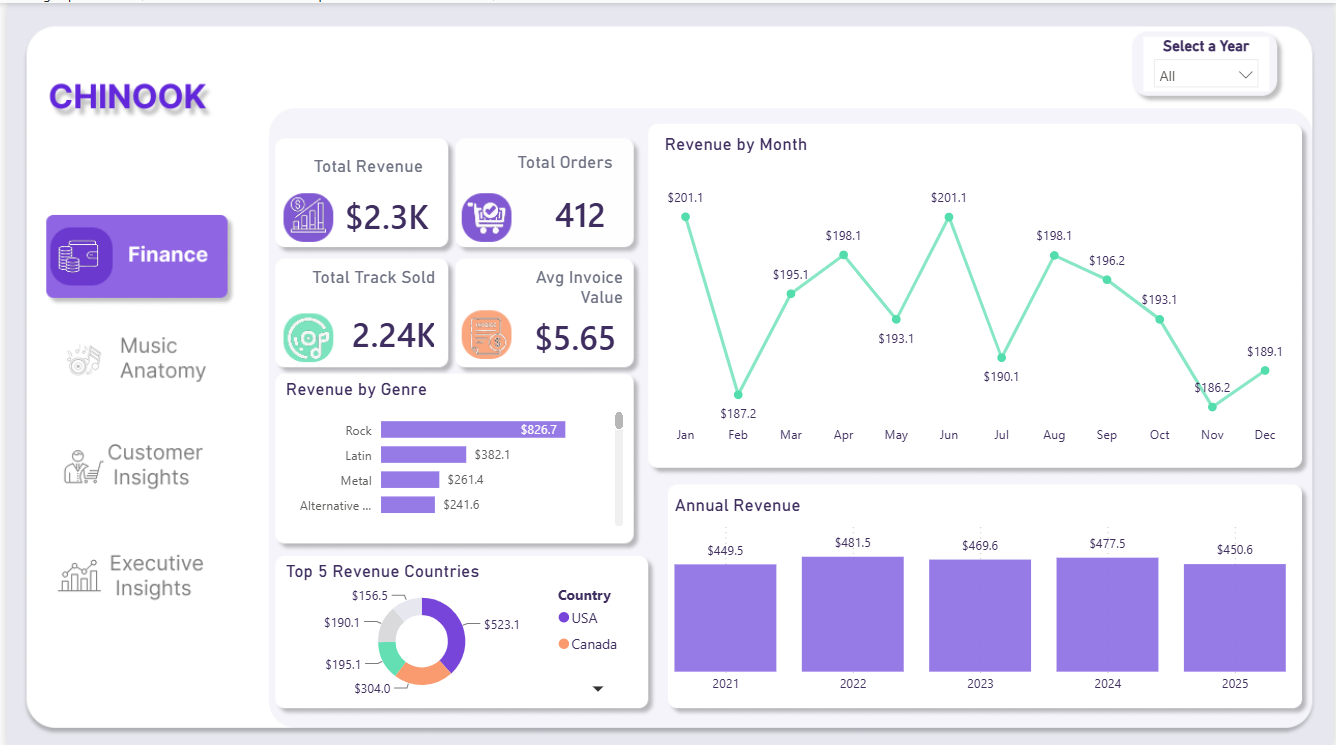

This screenshot's page, from the dashboard's own definition file:
{"tool":"powerbi","page":{"name":"finance","canvas":[1280,720],"ordinal":0},"visuals":[{"type":"lineChart","title":"Revenue by Month","fields":{"Y":["_Measures.Total Revenue"],"Category":["DateTable.MonthName"]},"box":[630,125.7,610,310],"z":0},{"type":"slicer","title":"Select a Year","fields":{"Values":["DateTable.Year"]},"box":[1097.1,32.9,121.4,52.9],"z":1000},{"type":"columnChart","title":"Annual Revenue","fields":{"Category":["DateTable.Year"],"Y":["_Measures.Total Revenue"]},"box":[640,474.3,600,201.4],"z":2000},{"type":"donutChart","title":"Top 5 Revenue Countries","fields":{"Category":["customer.Country"],"Y":["_Measures.Total Revenue"]},"box":[264.3,538.6,348.6,137.1],"z":3000},{"type":"barChart","title":"Revenue by Genre","fields":{"Category":["genre.Name"],"Y":["_Measures.Total Revenue"]},"box":[264.3,361.4,335.7,148.6],"z":4000},{"type":"cardVisual","title":"Total Track Sold","fields":{"Data":["_Measures.Total Tracks Sold"]},"box":[264.3,254.3,154.3,105.7],"z":5000},{"type":"cardVisual","title":"Avg Invoice Value","fields":{"Data":["_Measures.Avg Invoice Value"]},"box":[467.1,254.3,132.9,92.9],"z":6000},{"type":"cardVisual","title":"Total Revenue","fields":{"Data":["_Measures.Total Revenue"]},"box":[280.3,146.6,138,93.4],"z":7000},{"type":"cardVisual","title":"Total Orders","fields":{"Data":["_Measures.Total Orders"]},"box":[455.7,143.8,133.7,96.3],"z":8000},{"type":"actionButton","box":[38.9,406.5,175.2,80.3],"z":9000},{"type":"actionButton","box":[38.9,509.9,175.2,80.3],"z":10000},{"type":"actionButton","box":[38.9,306.7,175.2,80.3],"z":11000},{"type":"actionButton","box":[29.2,200.8,194.7,88.8],"z":12000}]}

Visuals, with their boxes in screenshot pixels (x1, y1, x2, y2), scaled from the page's 1280x720 canvas onto the 1336x745 screenshot:
"Revenue by Month" lineChart: 658/130/1294/451
"Select a Year" slicer: 1145/34/1272/89
"Annual Revenue" columnChart: 668/491/1294/699
"Top 5 Revenue Countries" donutChart: 276/557/640/699
"Revenue by Genre" barChart: 276/374/626/528
"Total Track Sold" cardVisual: 276/263/437/373
"Avg Invoice Value" cardVisual: 488/263/626/359
"Total Revenue" cardVisual: 293/152/437/248
"Total Orders" cardVisual: 476/149/615/248
actionButton: 41/421/223/504
actionButton: 41/528/223/611
actionButton: 41/317/223/400
actionButton: 30/208/234/300
